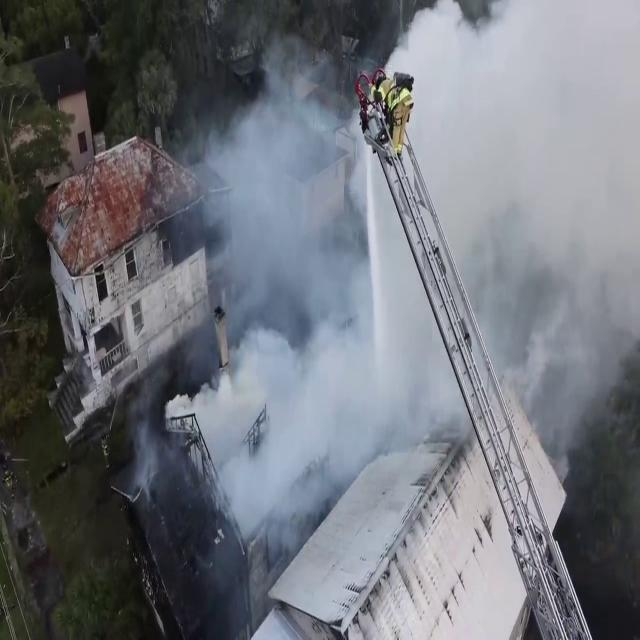Smoke: (205, 330, 368, 502)
